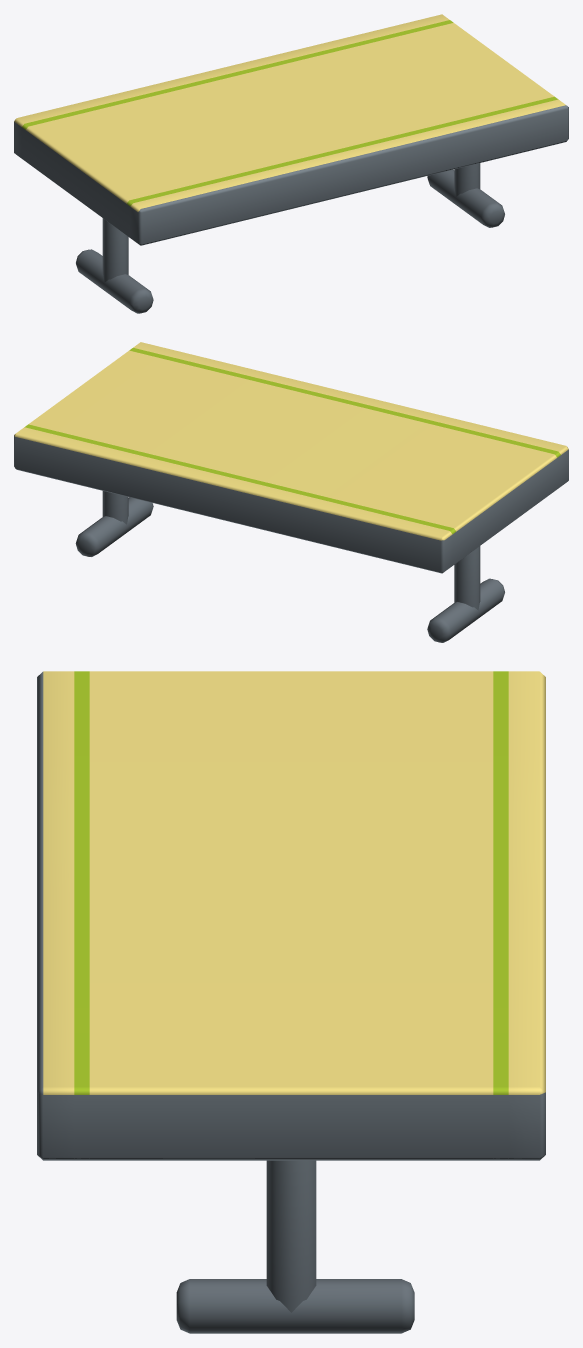
File: Table_Long.fbx
3 views of the same model, one above another, from view 1: azimuth 30°, elevation 25°; view 2: azimuth 150°, elevation 25°; view 3: azimuth 270°, elevation 25° (orthographic). The views are drawn at different scales.
Parts seen in each view (by area): view 1: Table_Long; view 2: Table_Long; view 3: Table_Long.
Part boxes in pixels (<box>): Table_Long: <box>14,14,568,313</box>; Table_Long: <box>14,342,568,642</box>; Table_Long: <box>37,671,545,1333</box>.
Bounding box in the file's own units: 235 × 72.69 × 120.
